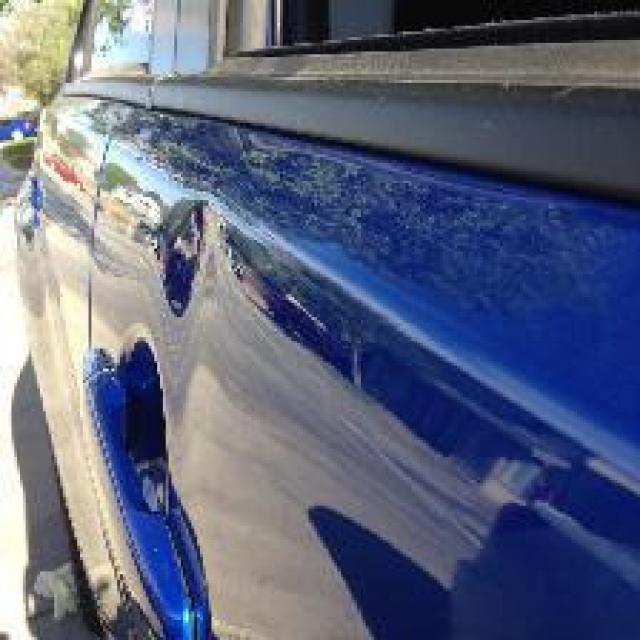damaged: (131, 194, 340, 354)
